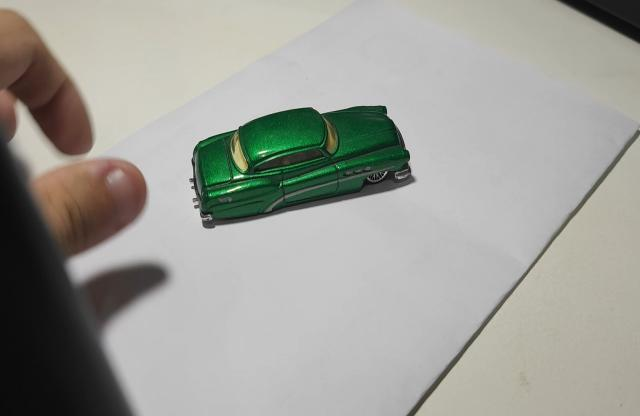06_MASERATI: (192, 106, 416, 231)
